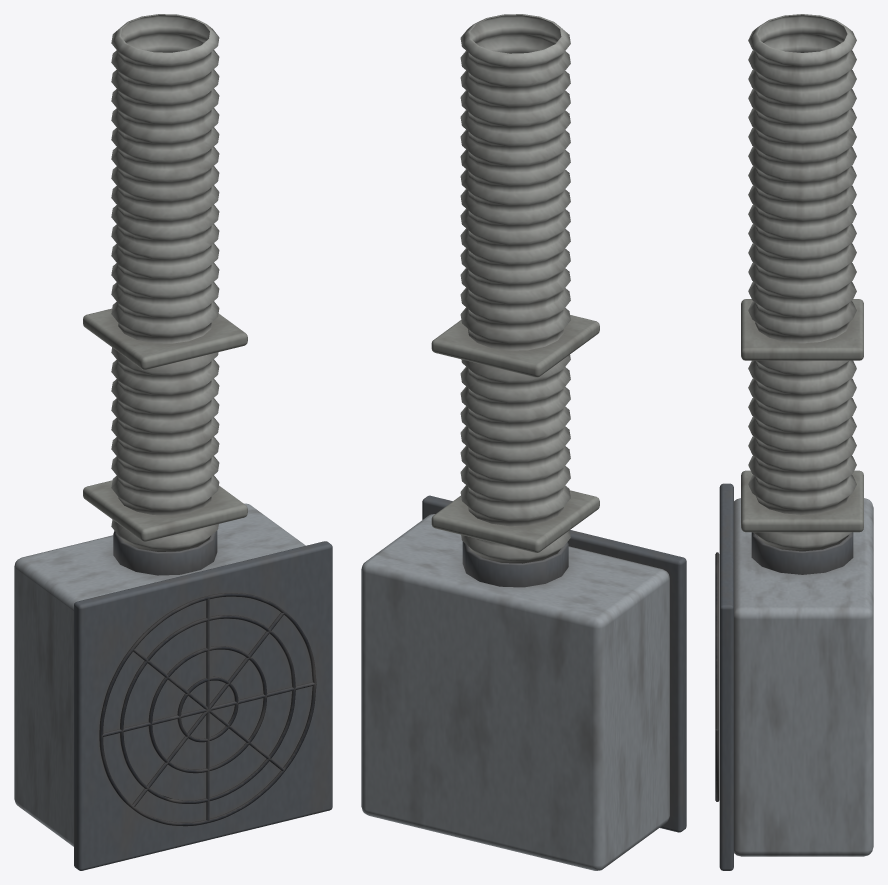
The model's file is skr_wyciag.glb.
The picture shows the model from 3 angles, left to right: view 1: azimuth 30°, elevation 25°; view 2: azimuth 150°, elevation 25°; view 3: azimuth 270°, elevation 25°; orthographic projection. The views are drawn at different scales.
Visible parts, largest first — view 1: Wyciag; view 2: Wyciag; view 3: Wyciag.
Part boxes in pixels (x1,y1,x2,y2): Wyciag: (14, 14, 332, 870); Wyciag: (361, 14, 686, 870); Wyciag: (715, 14, 873, 870).
Bounding box in the file's own units: 0.62 × 1.81 × 0.334.
Materials: 1 (1 with a texture image).
